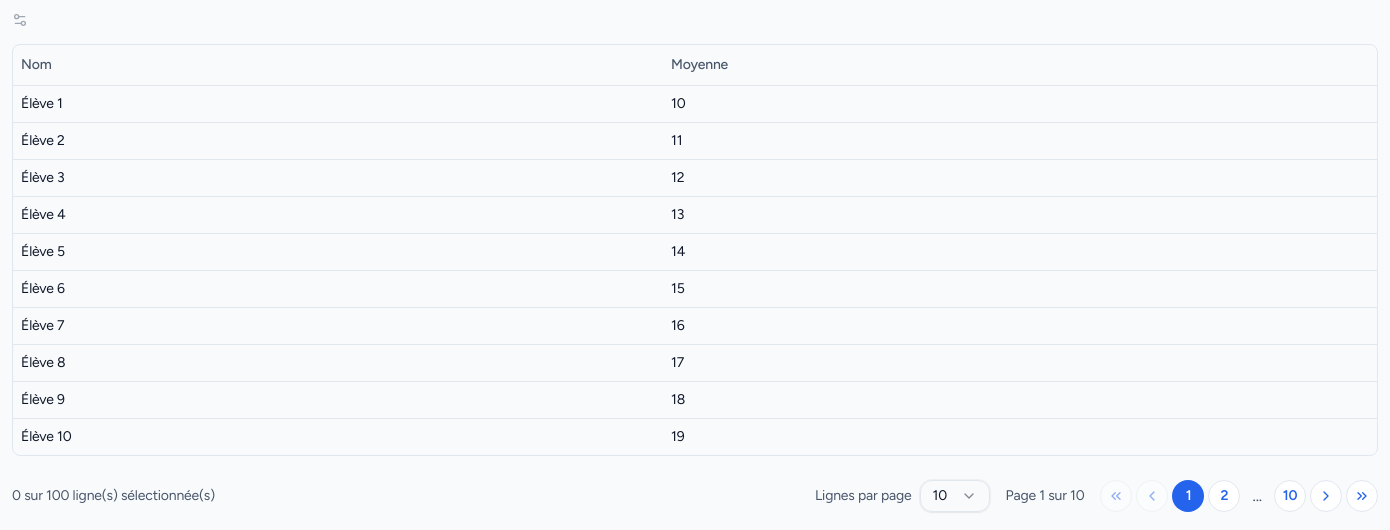
it: DataTable › affiche des ellipses autour de la page courante quand il y a beaucoup de pages
The image size is (1390, 530).
Expected: the text "Page 1 sur 10" is shown, [1006, 486, 1084, 506]
Expected: the text "..." is shown once, [1252, 486, 1262, 504]
Click the button "2" at (1224, 496), box [1208, 480, 1240, 512]
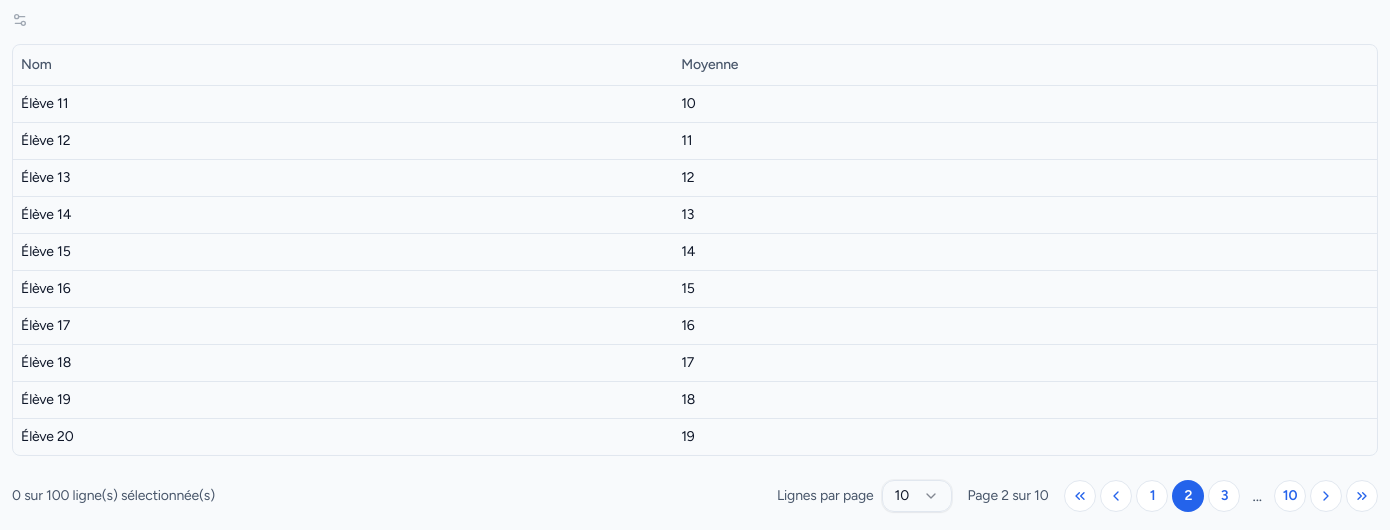
Click the button "3" at (1224, 496), box [1208, 480, 1240, 512]
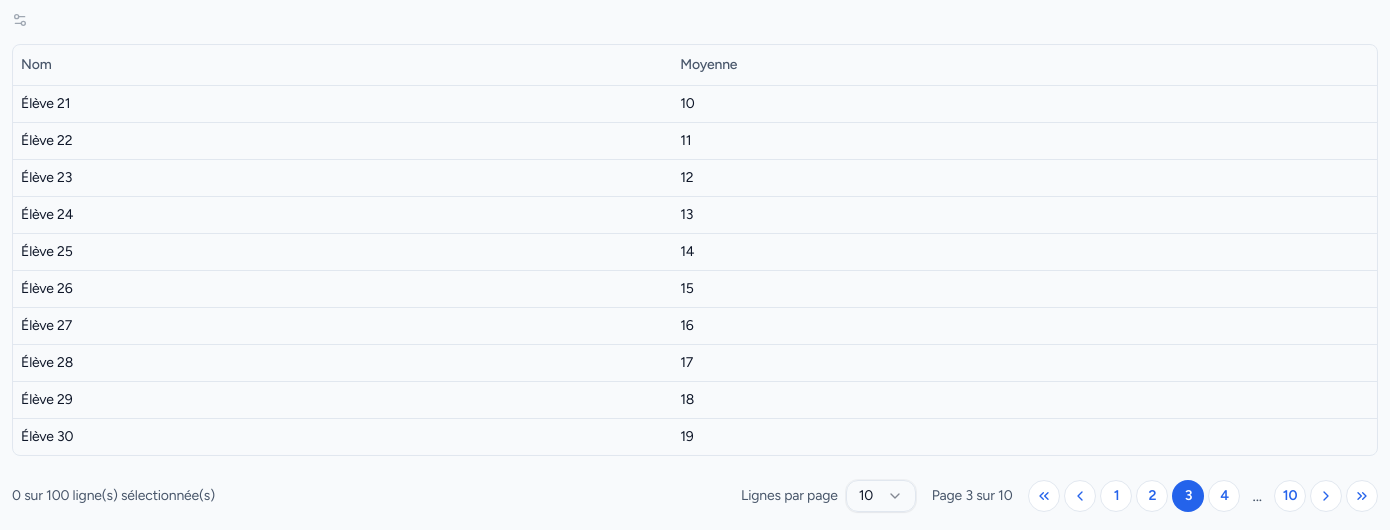
Click the button "4" at (1224, 496), box [1208, 480, 1240, 512]
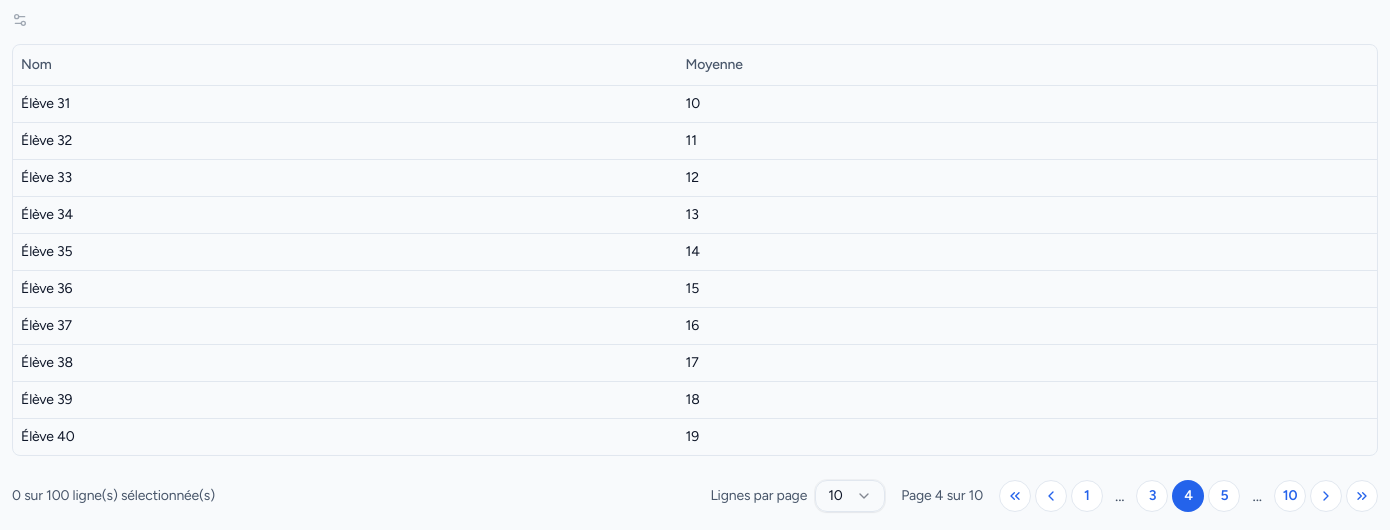
Expected: the text "Page 4 sur 10" is shown, [901, 486, 983, 506]
Expected: the text "..." is shown 2 times, [1115, 486, 1124, 504]; [1252, 486, 1262, 504]
Click the button named "Dernière page" at (1362, 496), box [1346, 480, 1378, 512]
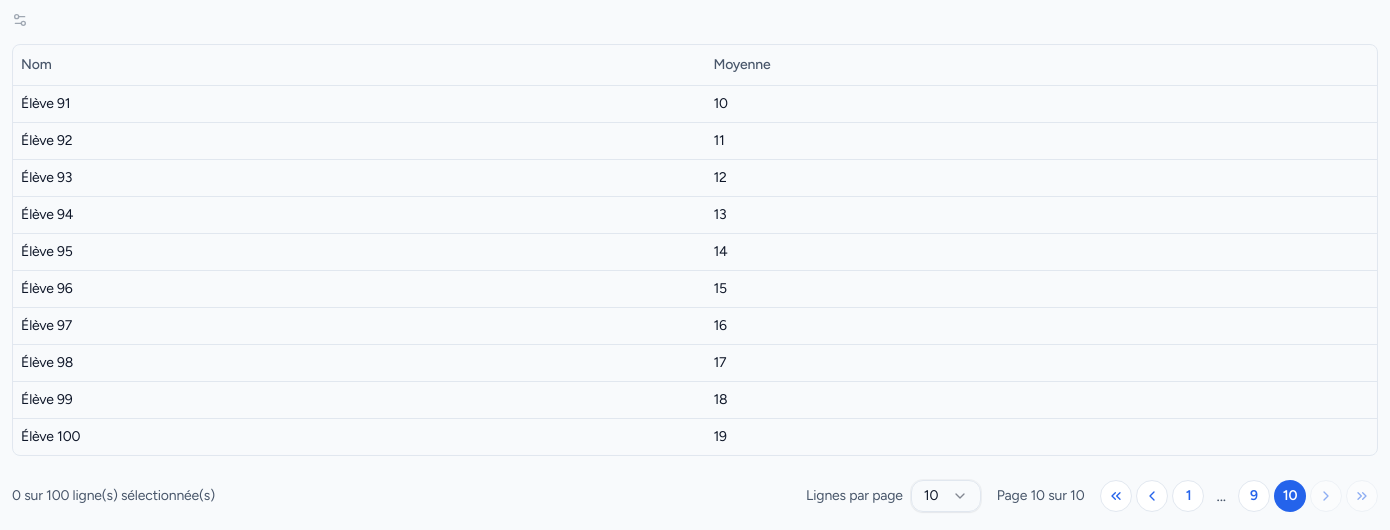
Expected: the text "..." is shown once, [1216, 486, 1226, 504]
